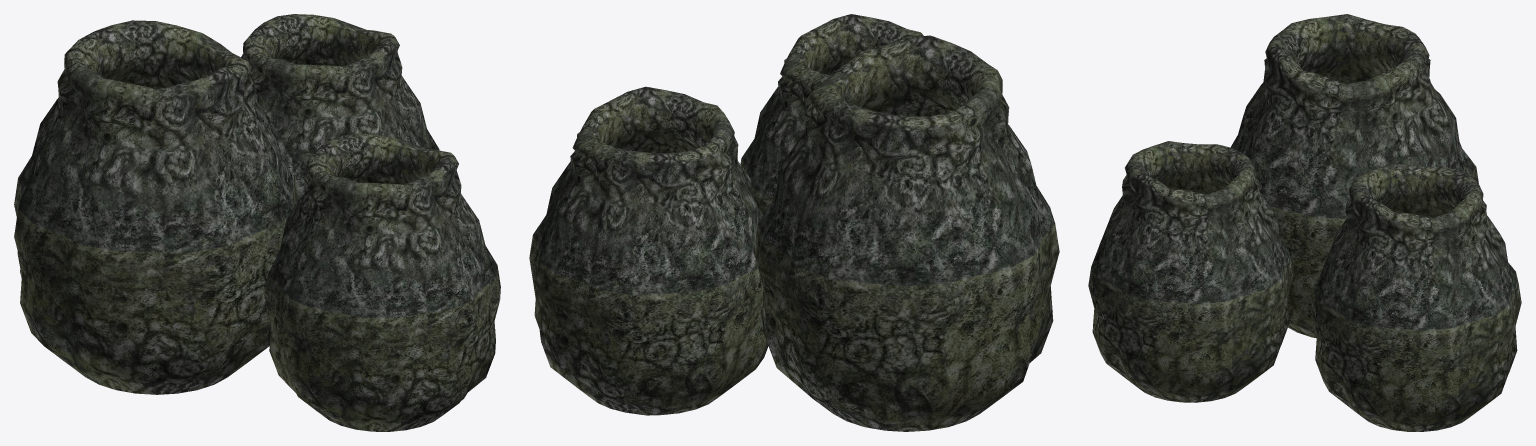
The model's file is jars.dae.
3 views of the same model, side by side, from view 1: azimuth 30°, elevation 25°; view 2: azimuth 150°, elevation 25°; view 3: azimuth 270°, elevation 25° (orthographic). The views are drawn at different scales.
Visible parts, largest first — view 1: bigjar, bigjar_001, bigjar_002; view 2: bigjar, bigjar_002, bigjar_001; view 3: bigjar_002, bigjar_001, bigjar.
Boxes of the visible parts, bbox=[...] form: bigjar: bbox=[14, 20, 298, 394]; bigjar_001: bbox=[264, 133, 500, 431]; bigjar_002: bbox=[241, 14, 439, 199]; bigjar: bbox=[754, 35, 1059, 431]; bigjar_002: bbox=[529, 86, 768, 415]; bigjar_001: bbox=[740, 14, 923, 214]; bigjar_002: bbox=[1311, 163, 1521, 431]; bigjar_001: bbox=[1088, 141, 1293, 402]; bigjar: bbox=[1230, 14, 1478, 338].
Size of the model in its own units: 2.57 by 2.54 by 1.88.
1 material, 1 textured.
